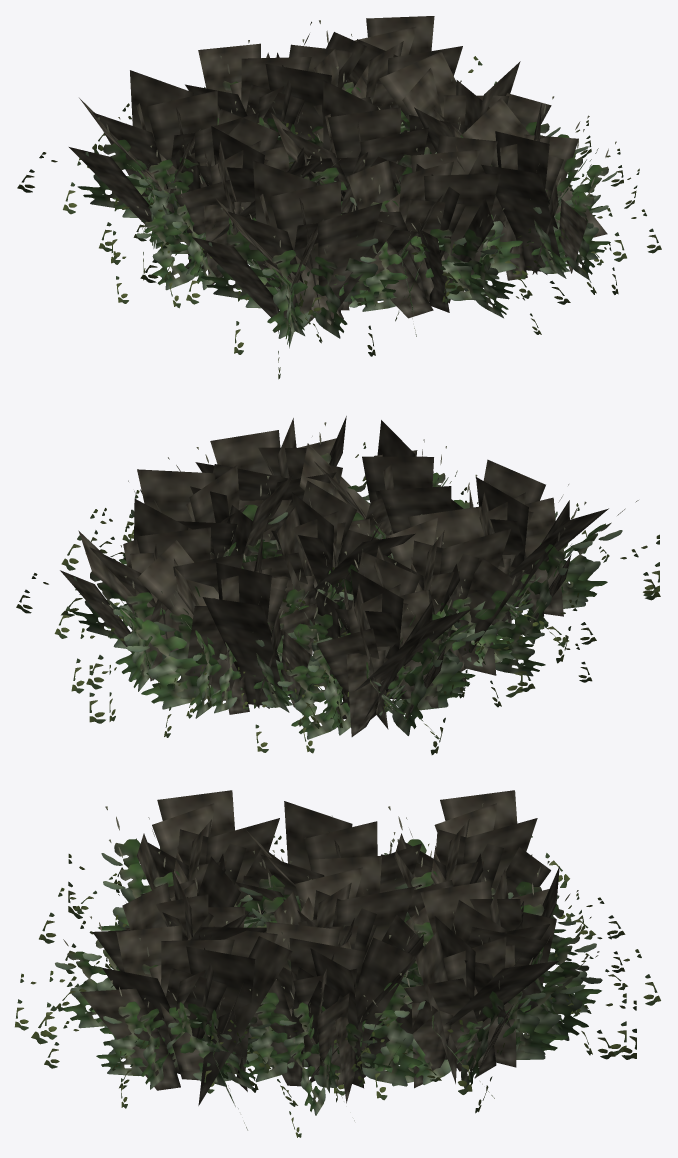
Rendered from grass_15.glb.
3 renders of one model, top to bottom at view 1: azimuth 30°, elevation 25°; view 2: azimuth 150°, elevation 25°; view 3: azimuth 270°, elevation 25°, orthographic. The views are drawn at different scales.
Visible parts, largest first — view 1: Grass_15; view 2: Grass_15; view 3: Grass_15.
Boxes of the visible parts, left/top/right/bottom form: Grass_15: left=17, top=16, right=661, bottom=379; Grass_15: left=16, top=416, right=660, bottom=754; Grass_15: left=15, top=790, right=660, bottom=1137.
Size of the model in its own units: 0.2632 by 0.0671 by 0.2814.
Materials: 1 (1 with a texture image).
